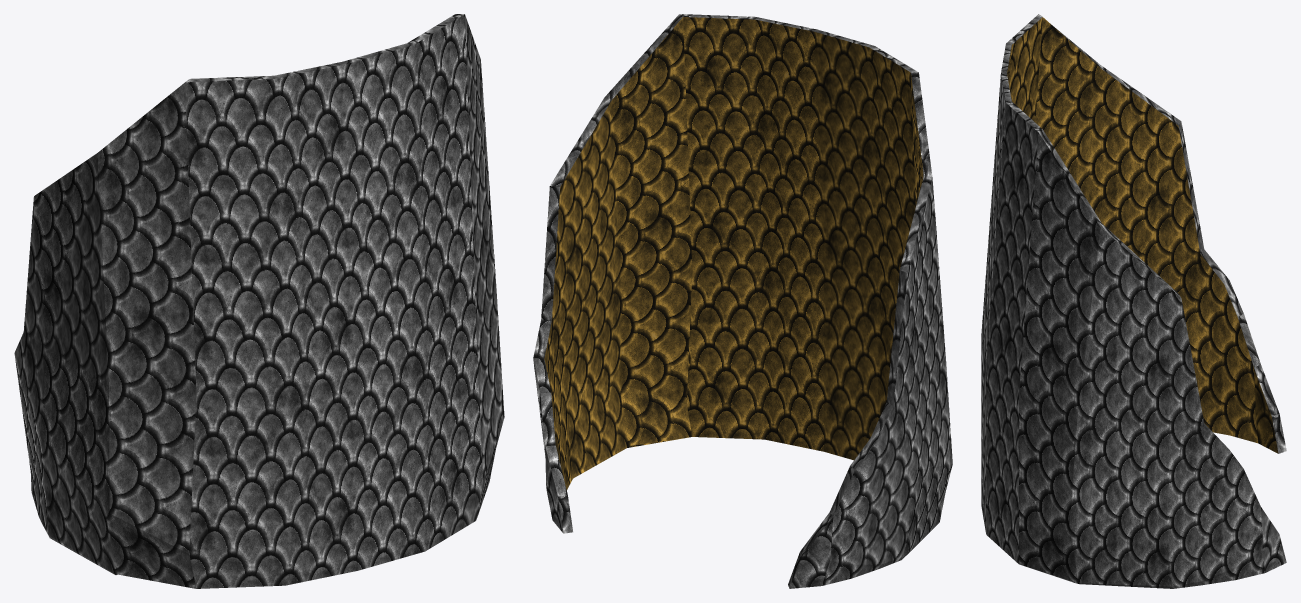
Rendered from cloak_medium.obj.
The picture shows the model from 3 angles, left to right: view 1: azimuth 30°, elevation 25°; view 2: azimuth 150°, elevation 25°; view 3: azimuth 270°, elevation 25°; orthographic projection. The views are drawn at different scales.
Parts seen in each view (by area): view 1: Plane; view 2: Plane; view 3: Plane.
Boxes of the visible parts, x1,y1,x2,y2 form: Plane: (14, 14, 504, 588); Plane: (533, 14, 952, 588); Plane: (981, 14, 1286, 588).
Size of the model in its own units: 3 by 3.42 by 2.18.
